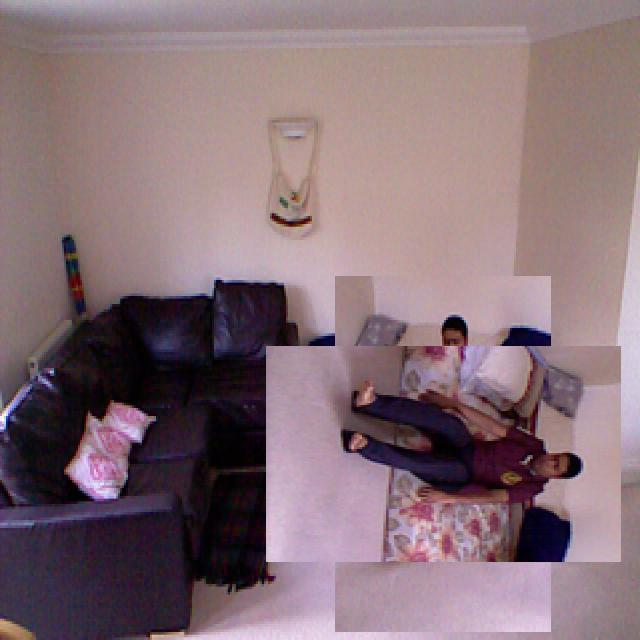NotFall: (314, 353, 604, 532)
